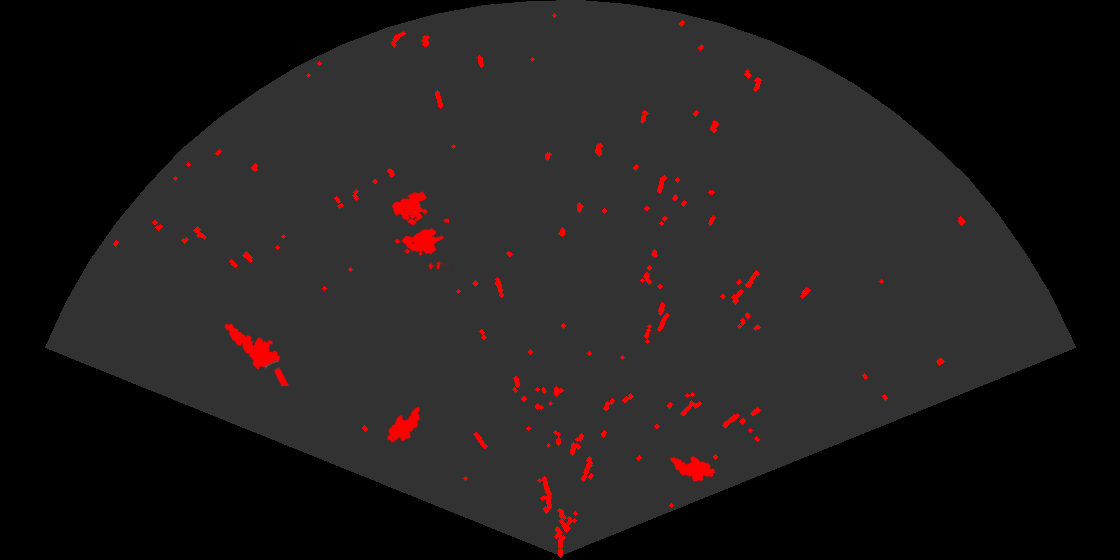AUV: (385, 405, 422, 445), (669, 455, 717, 483)
cage: (390, 190, 449, 269)
frogman: (223, 322, 290, 386)
